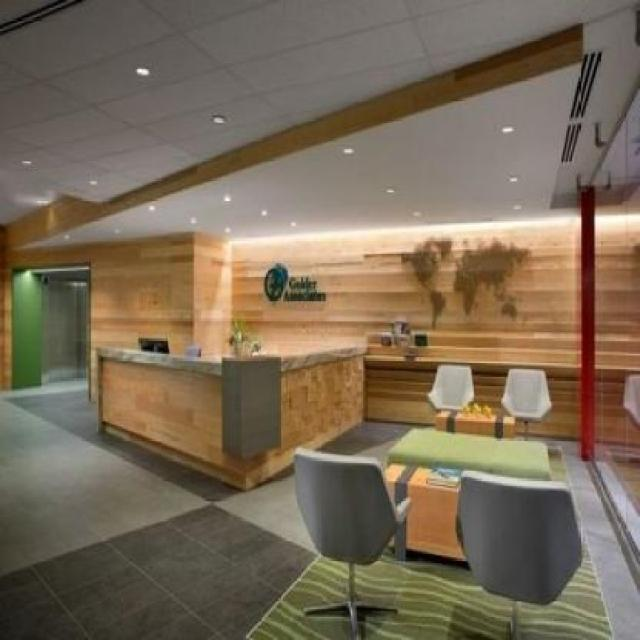frontdesk: (80, 314, 382, 498)
